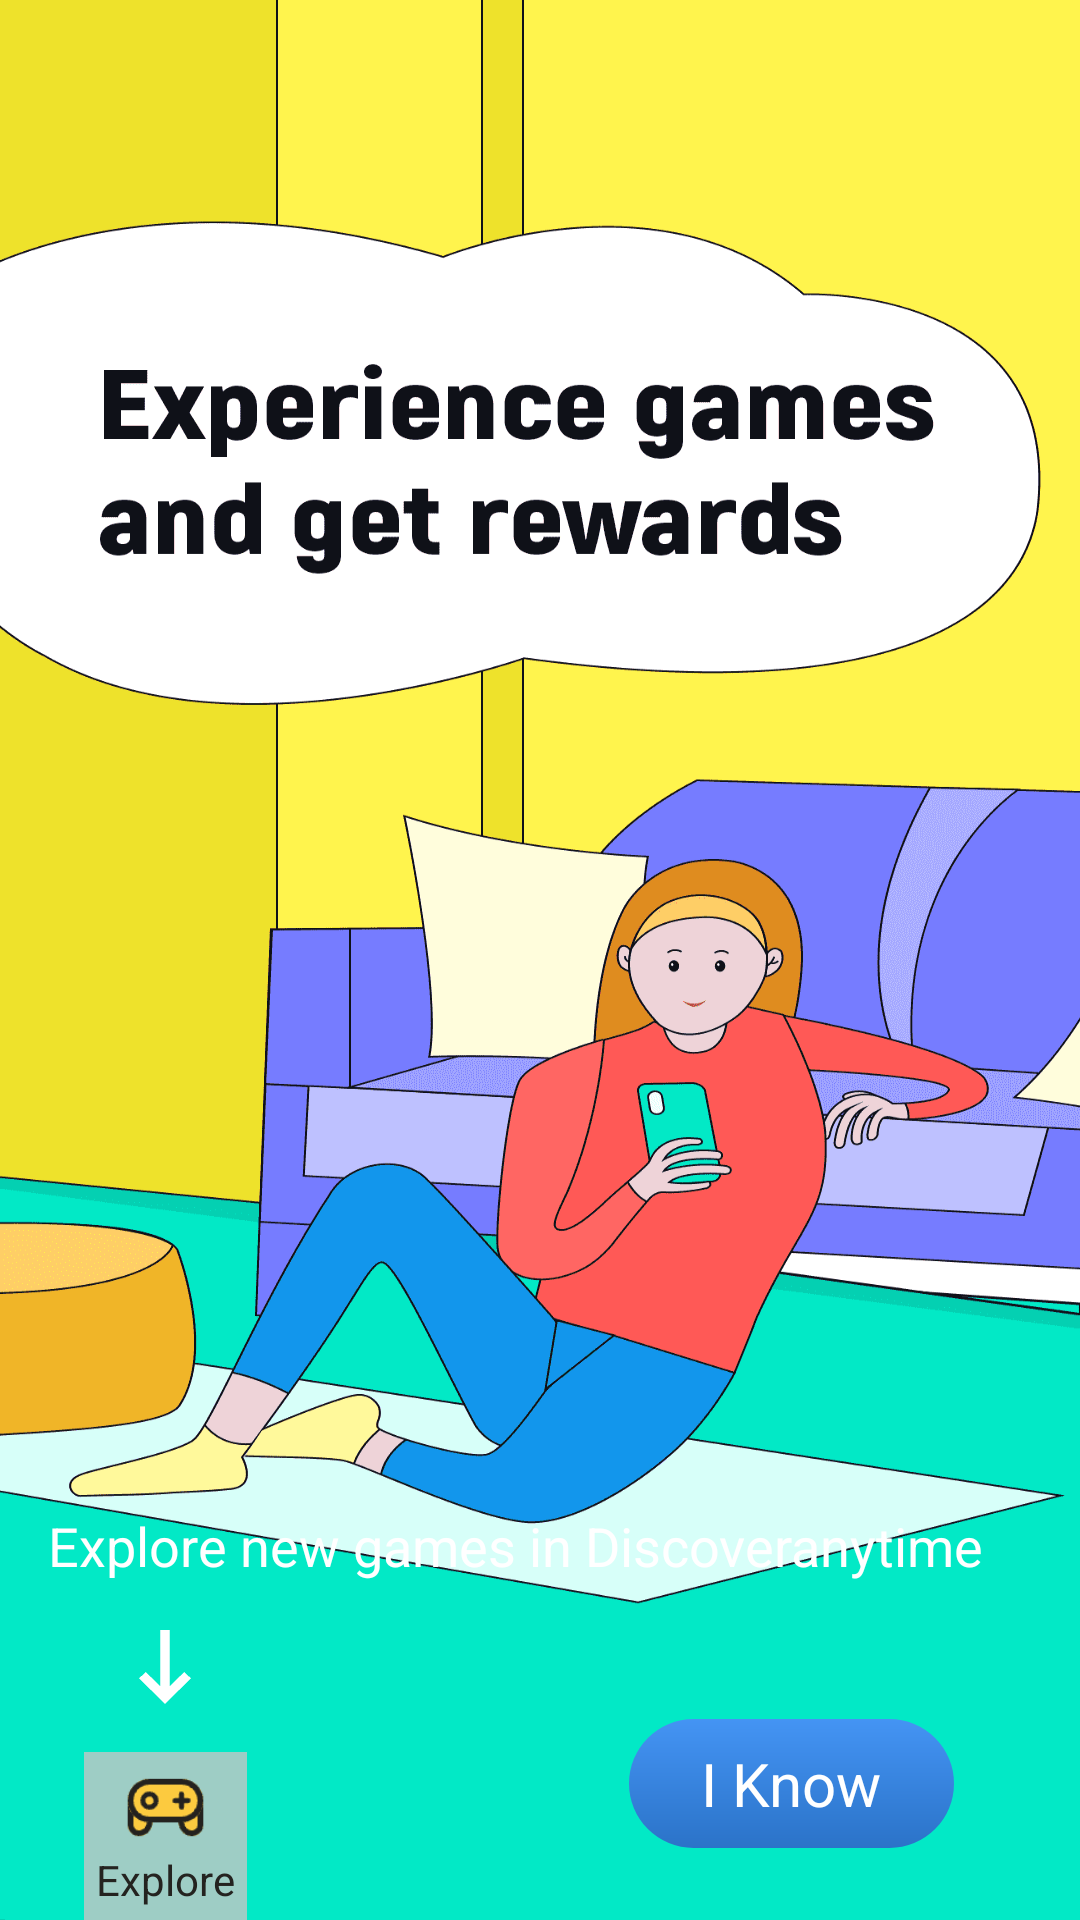

Icons on this 1080px×1920px Android screen, each with its box as bbox(x1, y1, x2, y2):
down: bbox(139, 1630, 191, 1704)
